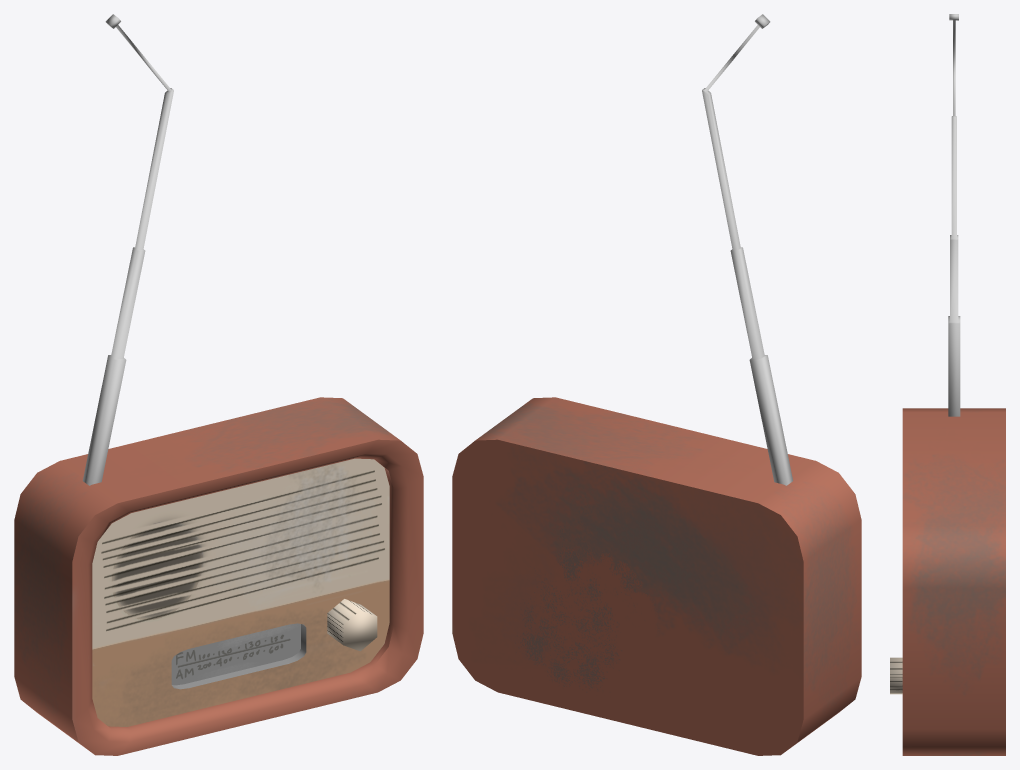
File: Radio.glb
3 renders of one model, left to right at view 1: azimuth 30°, elevation 25°; view 2: azimuth 150°, elevation 25°; view 3: azimuth 270°, elevation 25°, orthographic. The views are drawn at different scales.
Visible parts, largest first — view 1: Cube, Cube.001, Cylinder; view 2: Cube, Cube.001; view 3: Cube, Cube.001, Cylinder.
Boxes of the visible parts, bbox=[...] form: Cube: bbox=[14, 397, 423, 755]; Cube.001: bbox=[82, 14, 173, 485]; Cylinder: bbox=[327, 599, 377, 651]; Cube: bbox=[452, 397, 861, 755]; Cube.001: bbox=[702, 14, 793, 485]; Cube: bbox=[902, 408, 1005, 755]; Cube.001: bbox=[948, 14, 960, 416]; Cylinder: bbox=[890, 657, 902, 694].
Bounding box in the file's own units: 2 × 3.88 × 0.6405.
2 materials, 1 textured.
